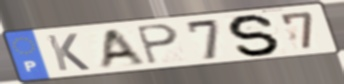7: (184, 19, 224, 61), (277, 10, 316, 51)
A: (96, 27, 147, 71)
K: (44, 32, 93, 73)
P: (133, 22, 182, 66)
S: (226, 13, 283, 57)
